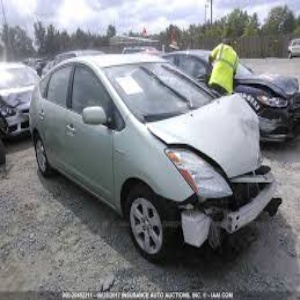bonnet: (182, 100, 266, 175)
bumper: (200, 184, 295, 253)
